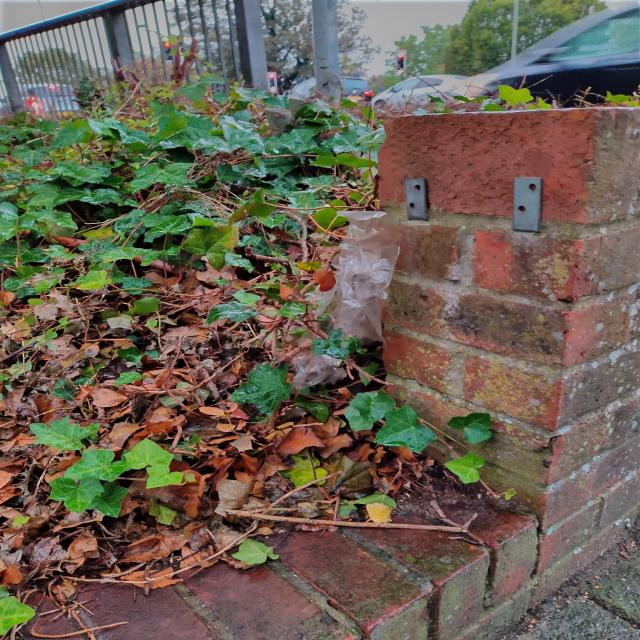litter: (291, 211, 401, 389), (391, 478, 404, 497)
